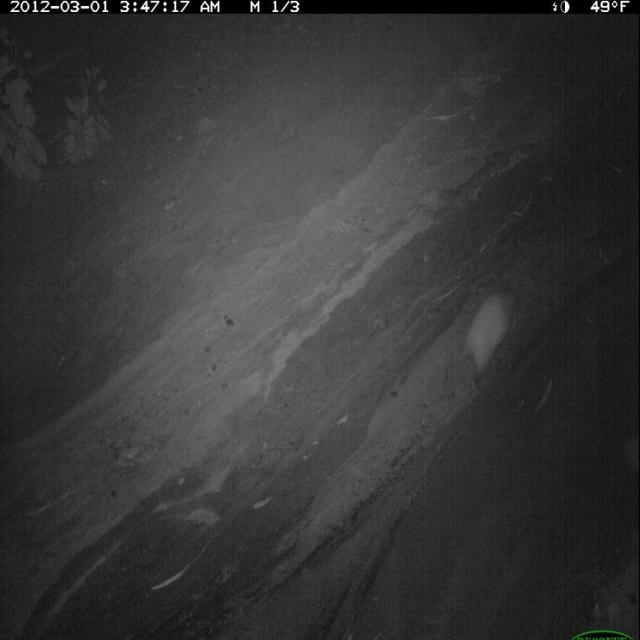opossum: (453, 281, 521, 390)
